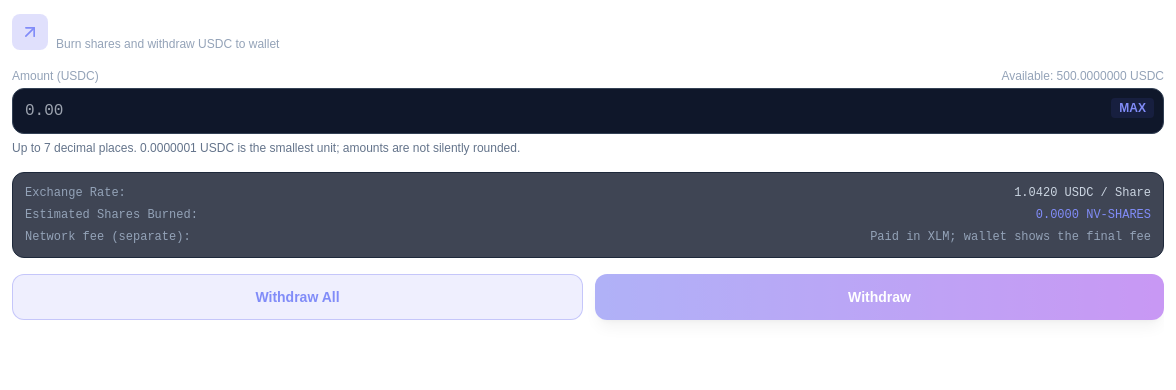
WithdrawForm Component Tests › renders error message when withdraw all fails
Click the button "Withdraw All" at (298, 297), box [12,274,583,320]
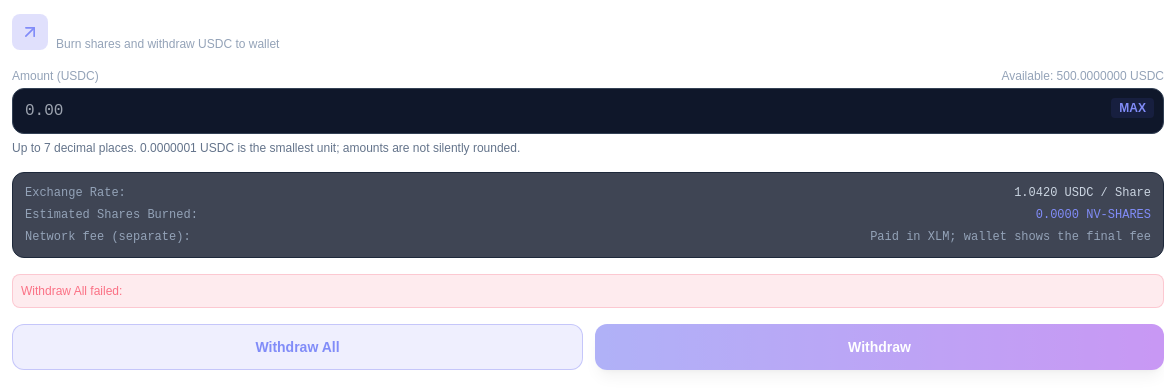
Expected: the message "Withdraw All failed:" is shown, [12,274,1164,308]
